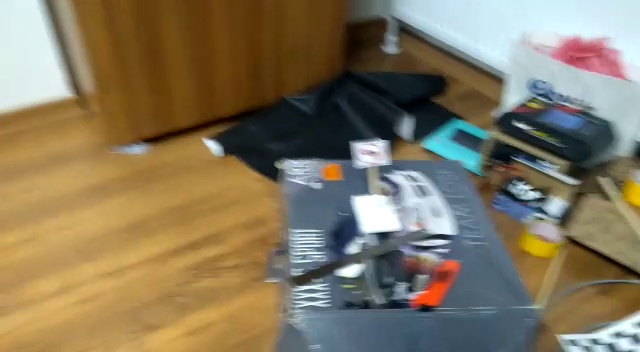sola_donulmez: (356, 139, 386, 165)
